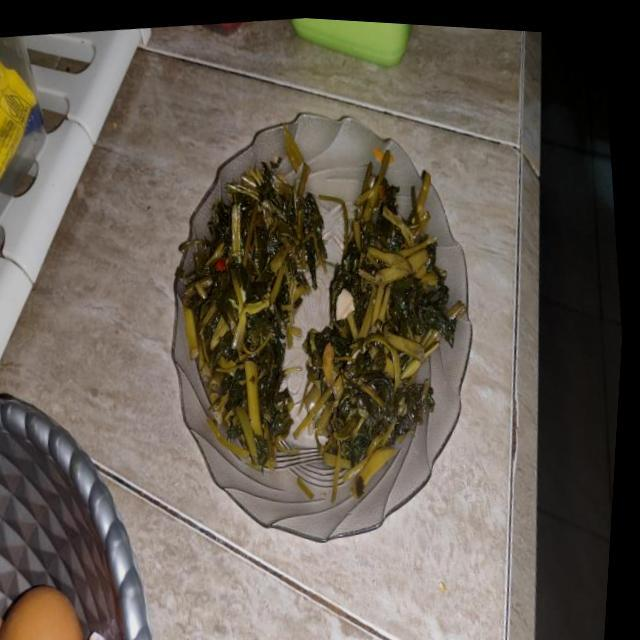tumis_kangkung: (305, 172, 464, 479), (196, 161, 326, 462)
